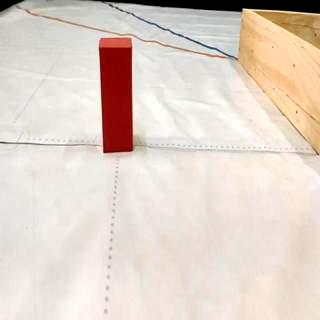redbox: (100, 36, 134, 153)
